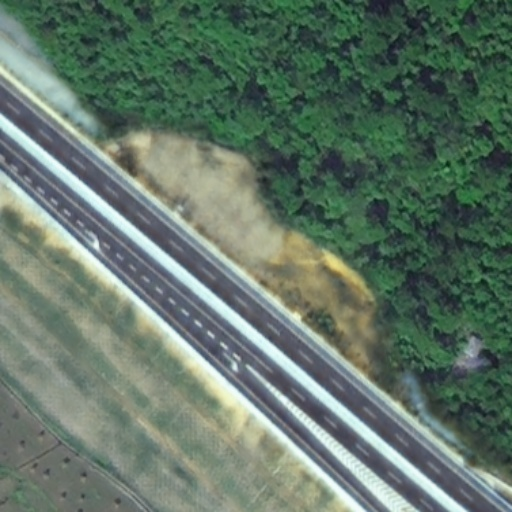landslide: (111, 131, 377, 374)
